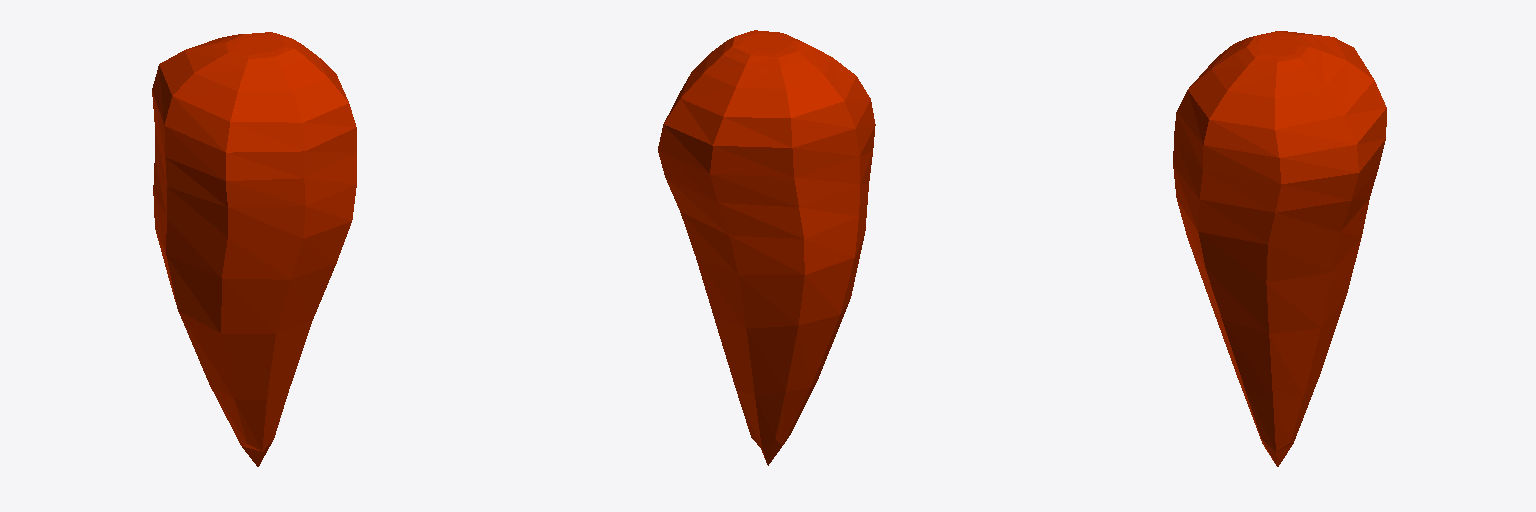
The model's file is carrot_growth_0_var1.obj.
3 renders of one model, left to right at view 1: azimuth 30°, elevation 25°; view 2: azimuth 150°, elevation 25°; view 3: azimuth 270°, elevation 25°, orthographic.
Parts seen in each view (by area): view 1: carrotbody.002; view 2: carrotbody.002; view 3: carrotbody.002.
Boxes of the visible parts, box(x1,y1,x2,y2) form: carrotbody.002: box(152, 32, 356, 466); carrotbody.002: box(658, 30, 875, 465); carrotbody.002: box(1173, 31, 1386, 466).
Size of the model in its own units: 0.4063 by 0.899 by 0.4119.